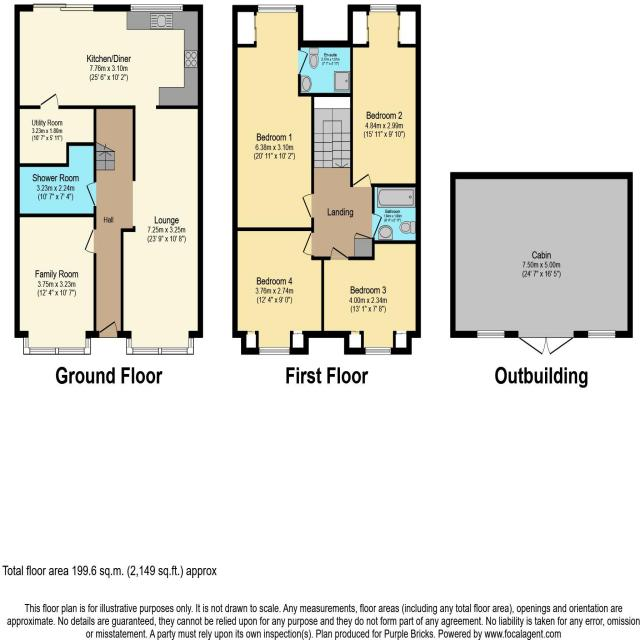DOOR: (36, 92, 61, 111), (83, 224, 97, 257), (84, 176, 96, 210), (301, 191, 314, 220), (301, 229, 314, 257), (297, 47, 309, 76), (99, 320, 118, 338), (330, 245, 351, 261), (350, 172, 372, 187), (372, 212, 383, 238)
ROOM: (14, 4, 203, 355), (232, 5, 315, 231), (347, 4, 421, 187), (232, 227, 324, 355), (14, 214, 97, 354), (321, 240, 421, 355)
WINDOW: (23, 334, 92, 356), (125, 336, 194, 357), (256, 2, 297, 15), (129, 3, 184, 12), (258, 345, 291, 357), (369, 2, 398, 14), (363, 345, 391, 356)
